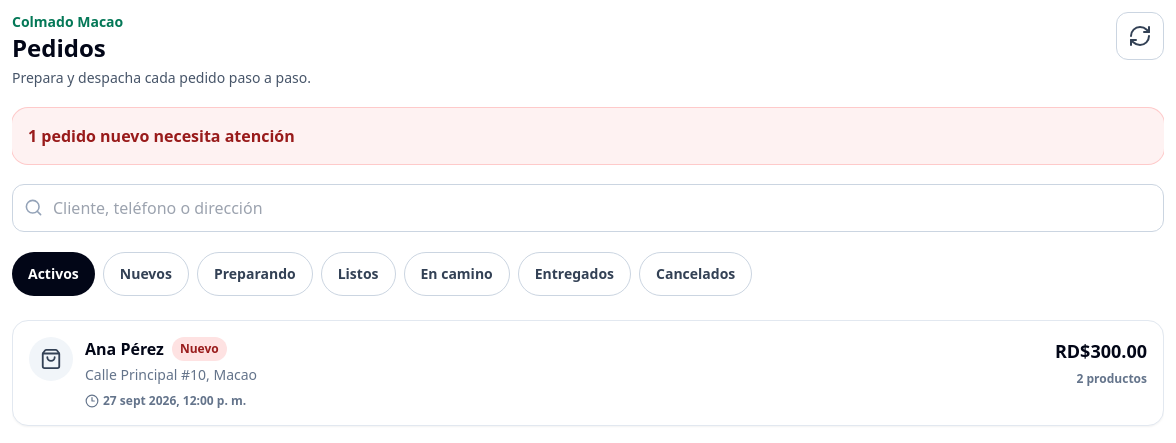
it: OrdersPanel › requests a server-side status filter
Expected: the text "Ana Pérez" is shown, 85,338 -> 164,360
Click the button "Entregados".
click(574, 274)  # box 518,252 -> 631,296
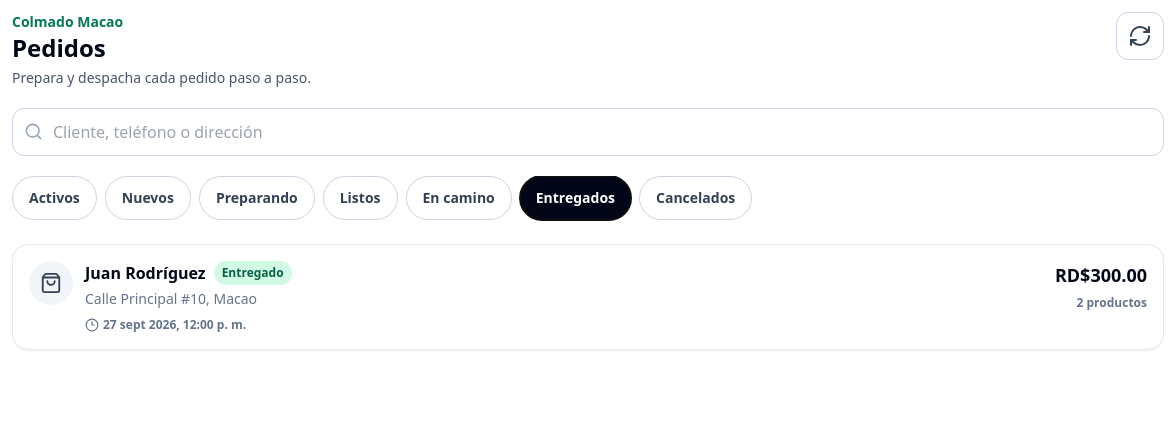
Expected: the text "Juan Rodríguez" is shown, 85,262 -> 206,284
